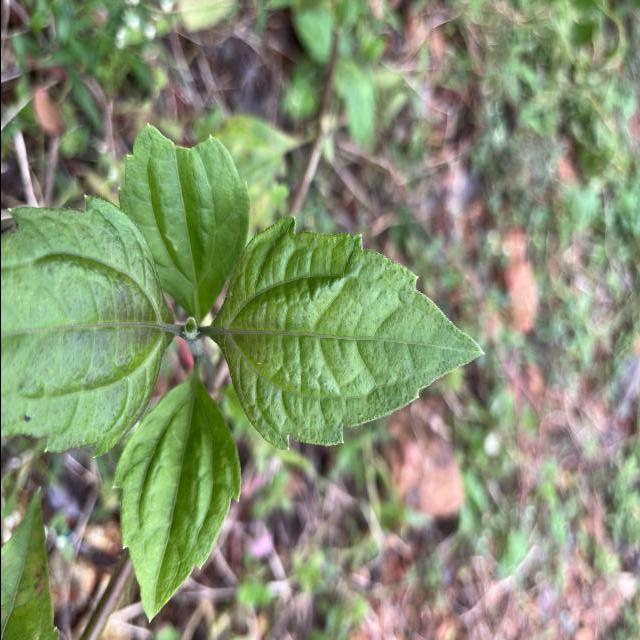Chromolaena odorata: (210, 210, 488, 456)
